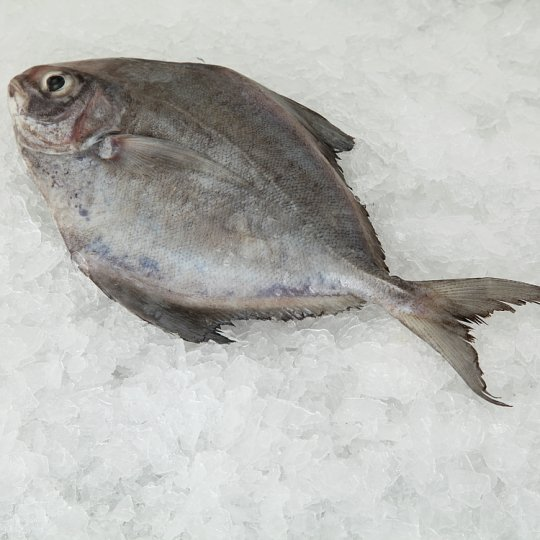Ikan Bawal: (3, 34, 540, 426)
